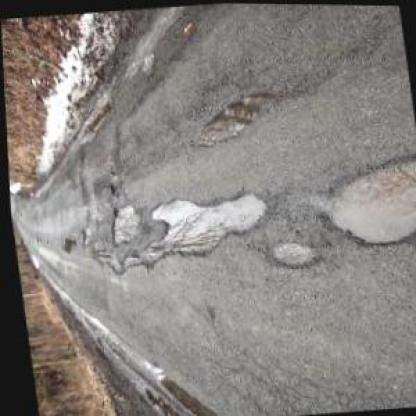pothole: (310, 150, 414, 252), (143, 188, 270, 260), (182, 86, 278, 150), (83, 240, 157, 274), (261, 236, 319, 269), (101, 201, 140, 244), (74, 223, 90, 247)
